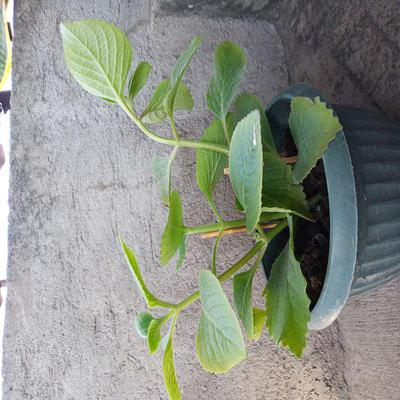Oregano: (69, 35, 334, 368)
